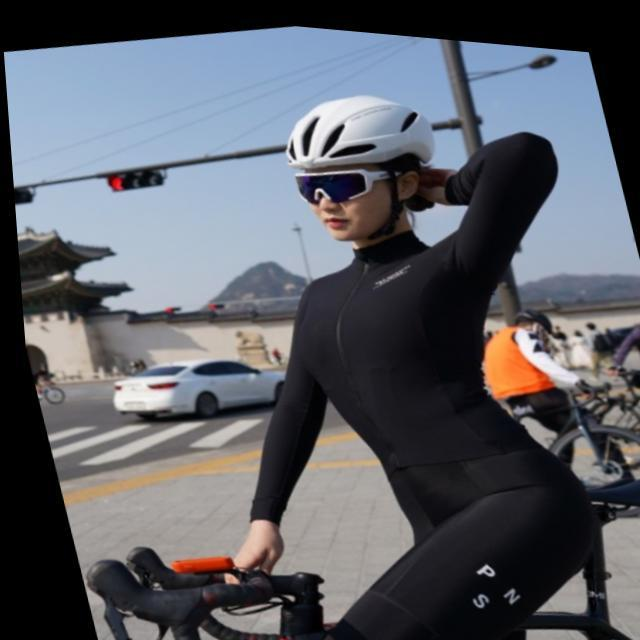Helmet: (281, 82, 439, 242)
